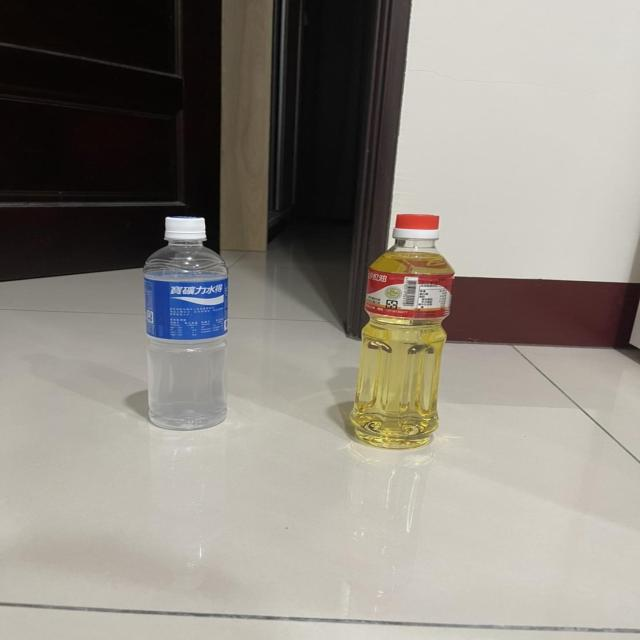bottle: (347, 216, 459, 449), (135, 214, 240, 436)
